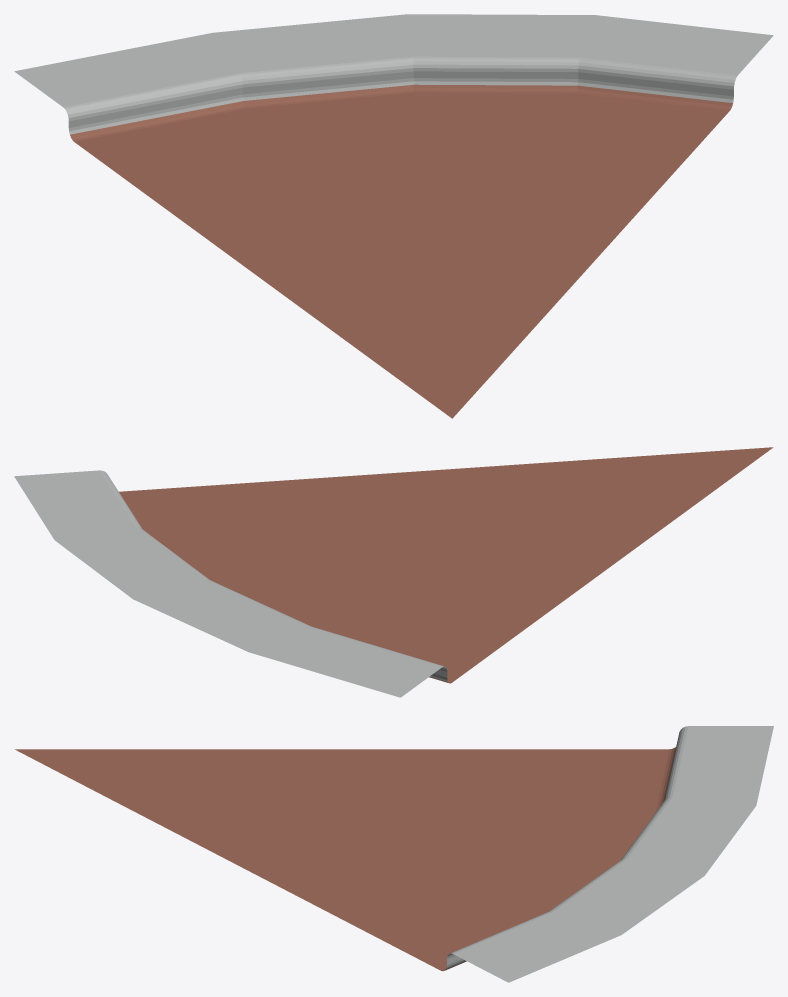
The model's file is Cut_free_angle_road.fbx.
3 renders of one model, top to bottom at view 1: azimuth 30°, elevation 25°; view 2: azimuth 150°, elevation 25°; view 3: azimuth 270°, elevation 25°, orthographic. The views are drawn at different scales.
Parts seen in each view (by area): view 1: Plan.012; view 2: Plan.012; view 3: Plan.012.
Part boxes in pixels (x1=…): Plan.012: x1=14, y1=14, x2=773, y2=418; Plan.012: x1=14, y1=447, x2=773, y2=697; Plan.012: x1=15, y1=726, x2=773, y2=982.
Size of the model in its own units: 639 by 26.78 by 800.
